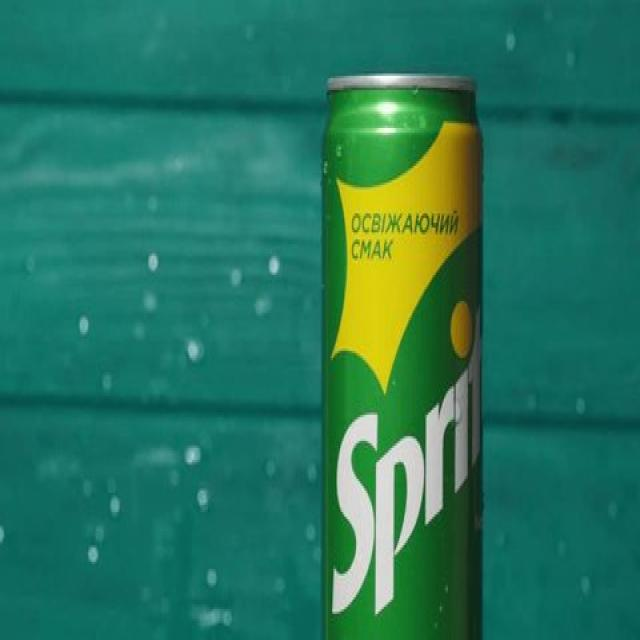sprite: (304, 69, 513, 640)
